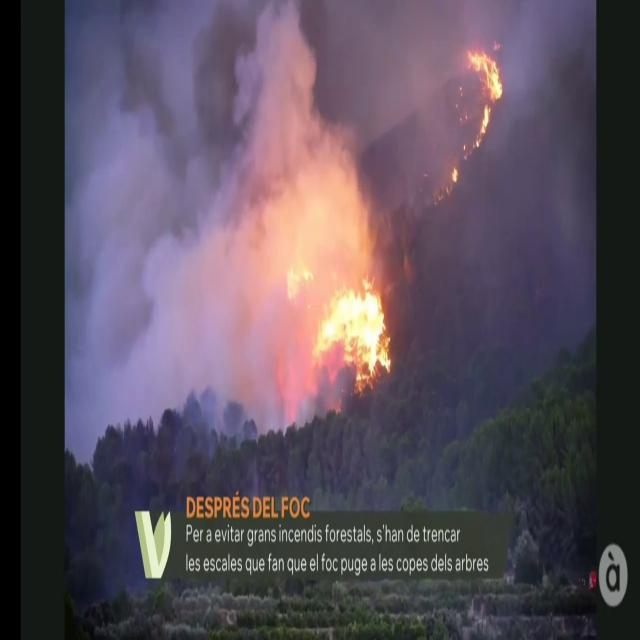Fire: (282, 253, 394, 392), (464, 34, 506, 152)
Smoke: (65, 1, 383, 420)
